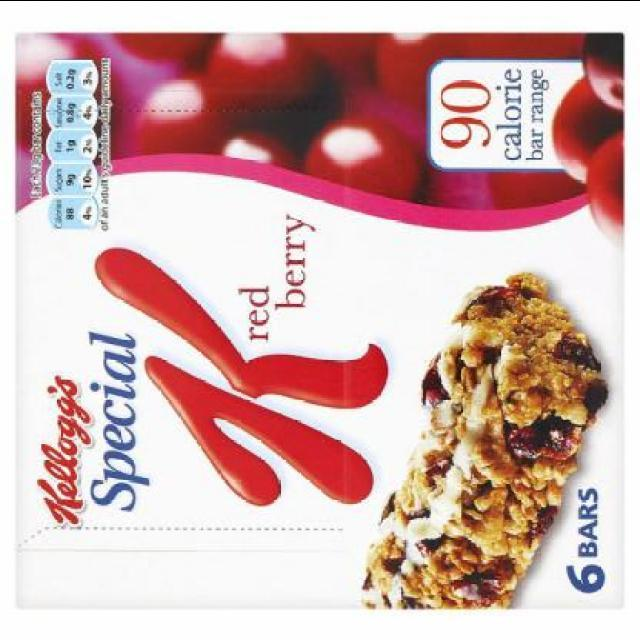Cereal bar: (9, 23, 626, 617)
